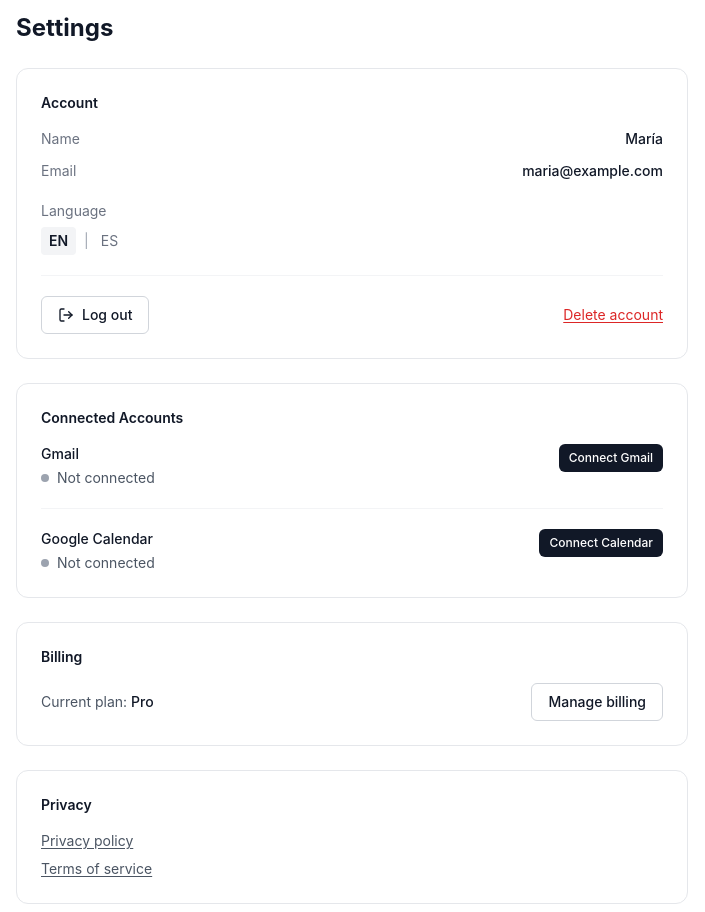
SettingsPage › re-renders all copy in Spanish when the language switches to es
Expected: the heading "Settings" is shown, [16,13,113,42]
Expected: the text "Not connected" is shown 2 times, [41,468,155,488]; [41,553,155,573]
What coordinates should you click on to do the following:
click the button with aria-label "Idioma"
I would click on:
 (110, 241)
Its box is [93,227,126,255].
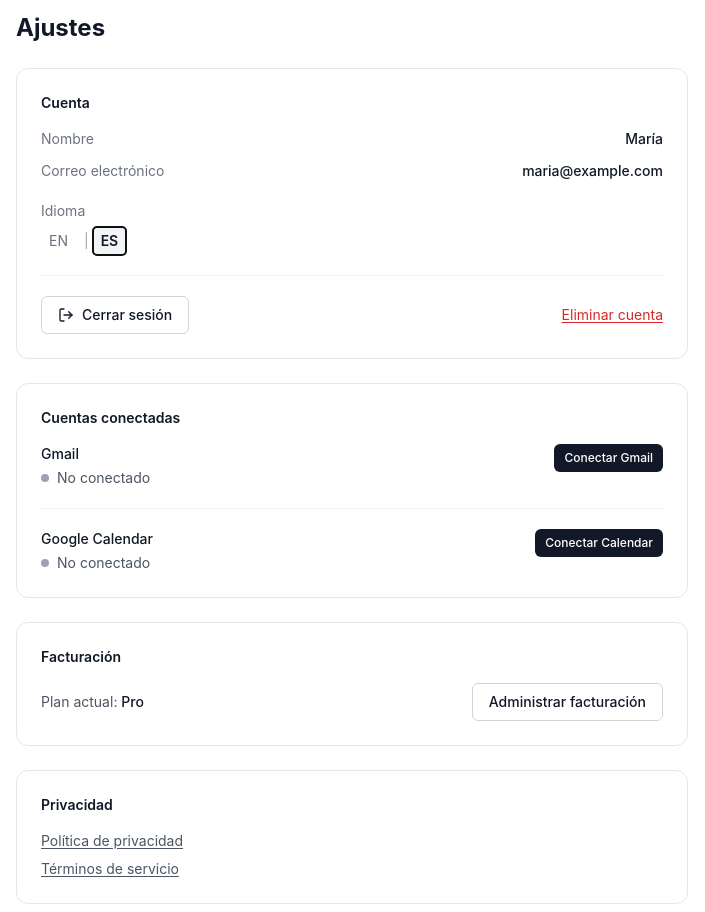
Expected: the text "No conectado" is shown 2 times, [41,468,150,488]; [41,553,153,573]
Expected: the heading "Ajustes" is shown, [16,13,105,42]
